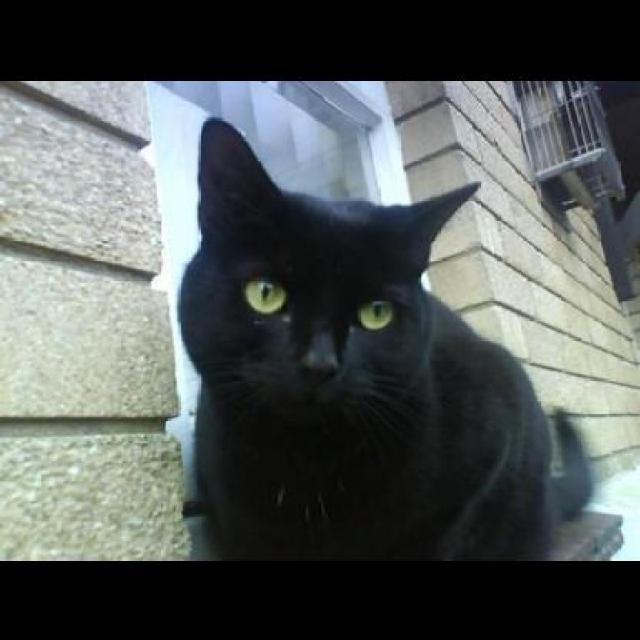unauthorized: (175, 114, 594, 560)
